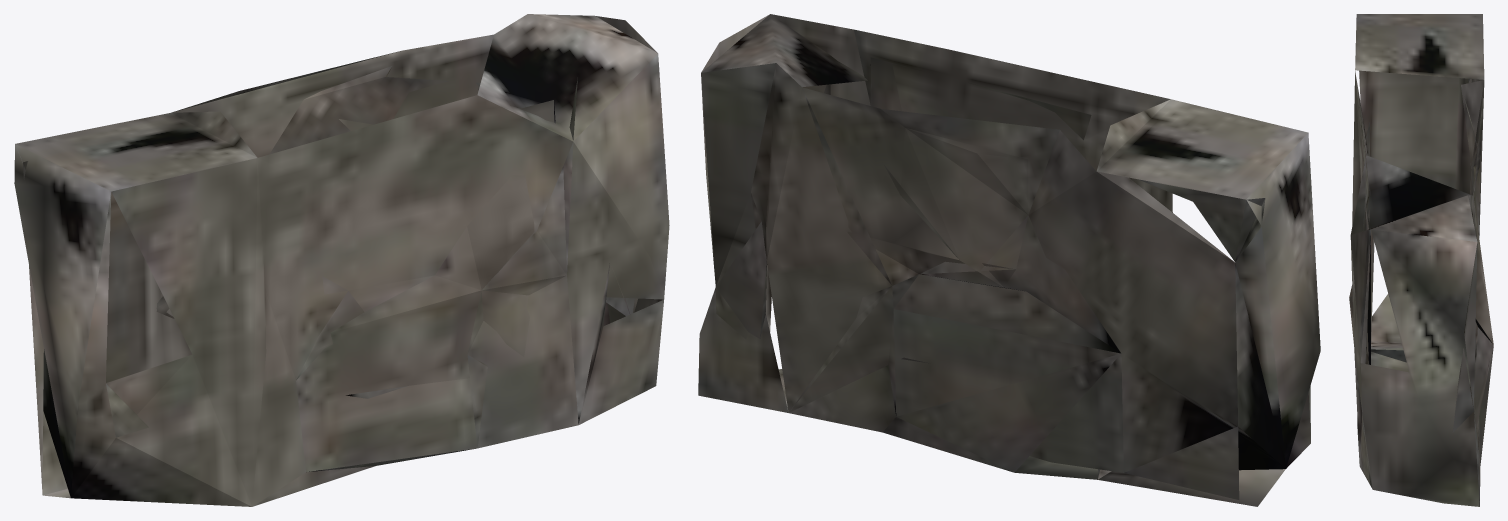
File: wall_segment_1503486080_lod1.glb
3 renders of one model, left to right at view 1: azimuth 30°, elevation 25°; view 2: azimuth 150°, elevation 25°; view 3: azimuth 270°, elevation 25°, orthographic. The views are drawn at different scales.
Size of the model in its own units: 4.94 by 2.95 by 1.34.
1 material, 1 textured.
